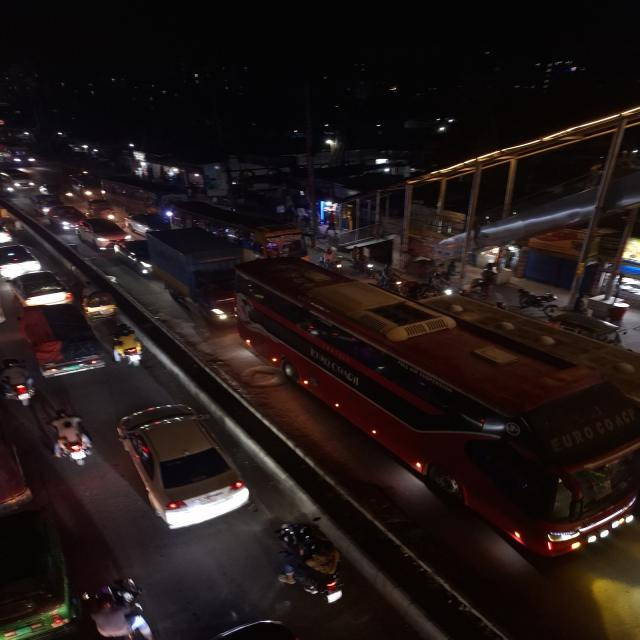bus: (226, 262, 638, 564), (169, 202, 306, 258), (0, 395, 30, 524), (73, 172, 106, 201)
car: (113, 399, 252, 531), (182, 616, 334, 640), (2, 271, 75, 309), (74, 218, 130, 251), (113, 240, 152, 278), (0, 243, 43, 277), (44, 204, 85, 232), (124, 212, 172, 234), (0, 167, 37, 193)
cng: (0, 504, 75, 639), (85, 197, 118, 221)
motorcycle: (270, 516, 350, 608), (87, 575, 156, 640), (45, 408, 94, 469), (109, 327, 156, 373), (0, 355, 39, 408)
pickup_van: (21, 309, 107, 380)
rickshaw: (78, 283, 121, 322)
truck: (143, 228, 242, 324)
